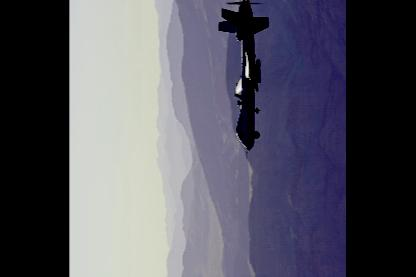MQ9: (218, 0, 270, 160)
